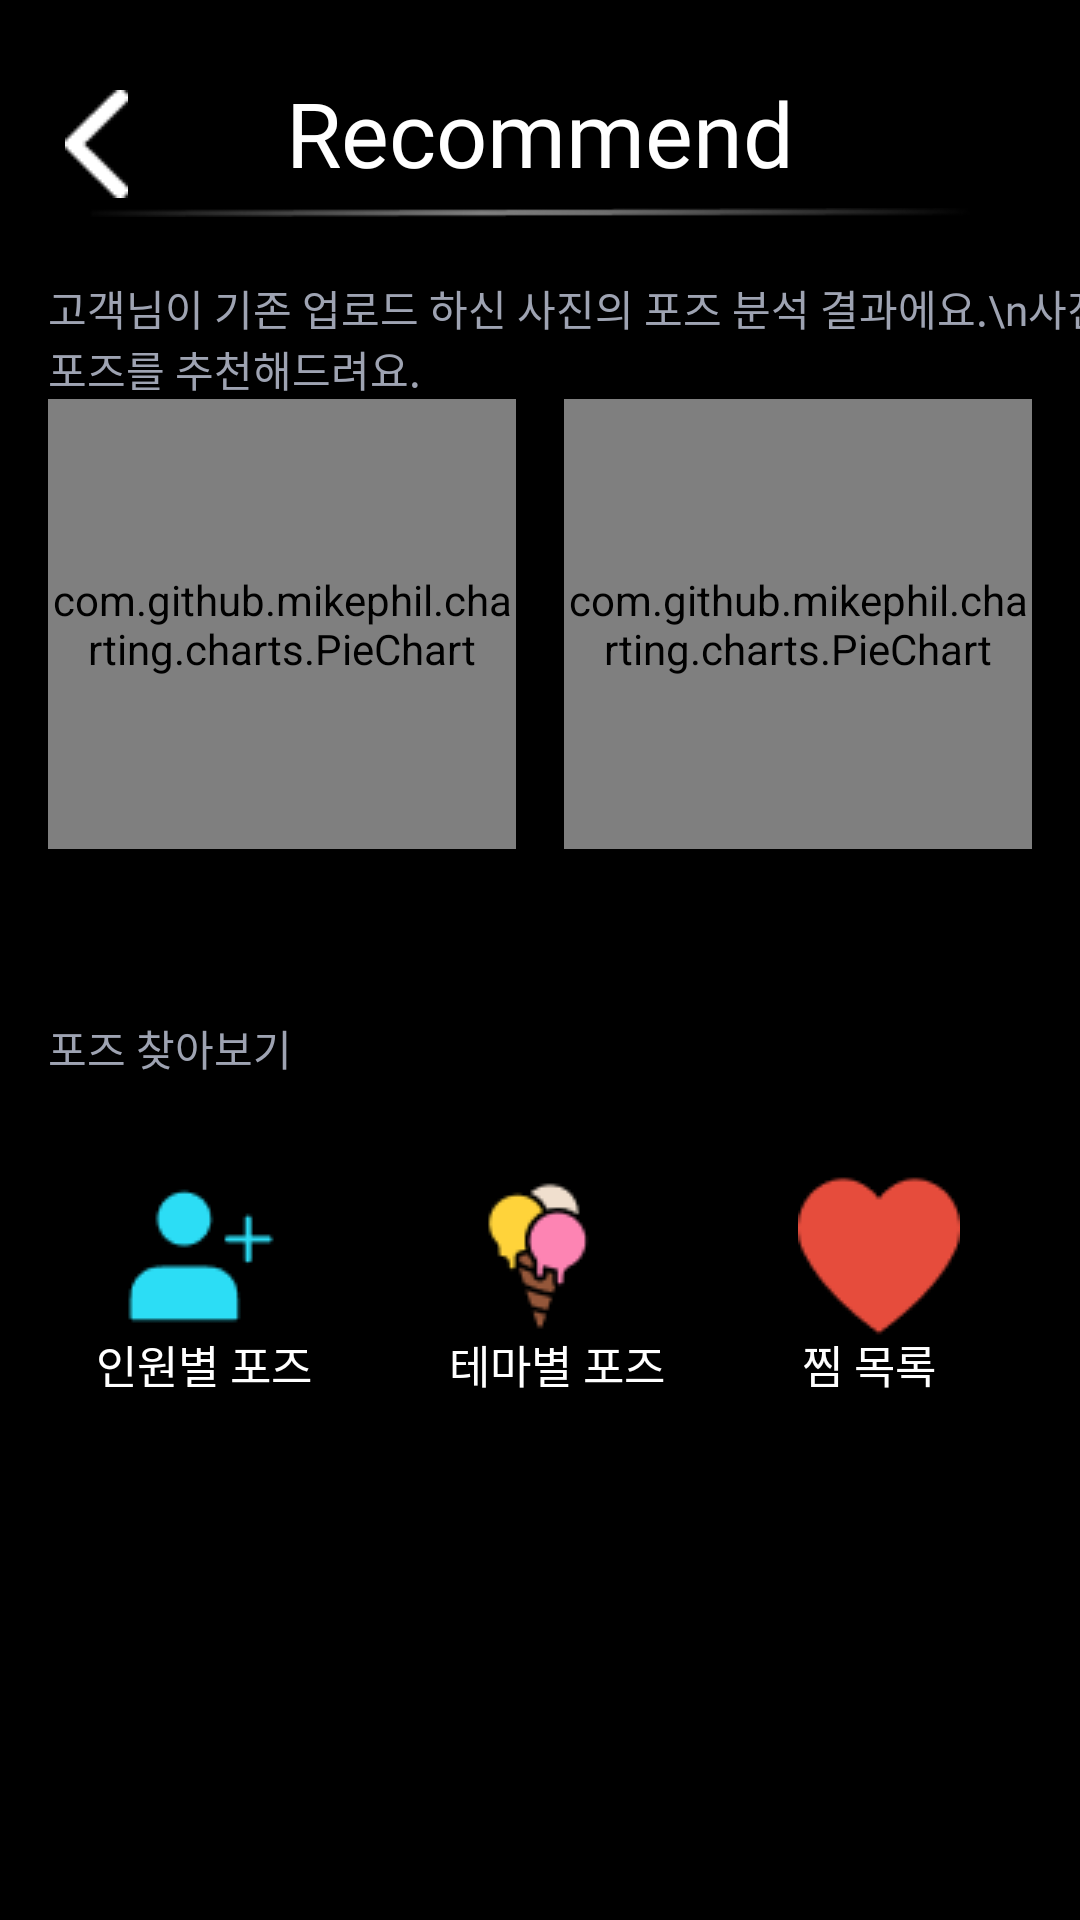

Icon click points for this 1080px×1920px phone screenshot, format [x,y]:
back: [96,144]
